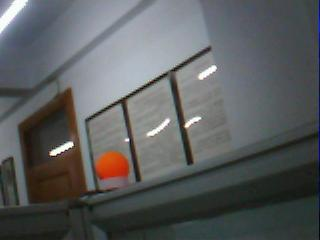oball: (95, 151, 130, 179)
